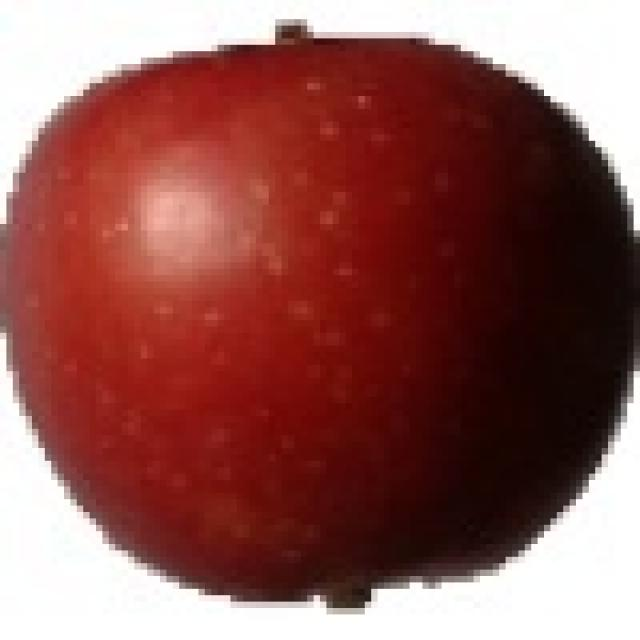apple: (7, 36, 637, 610)
